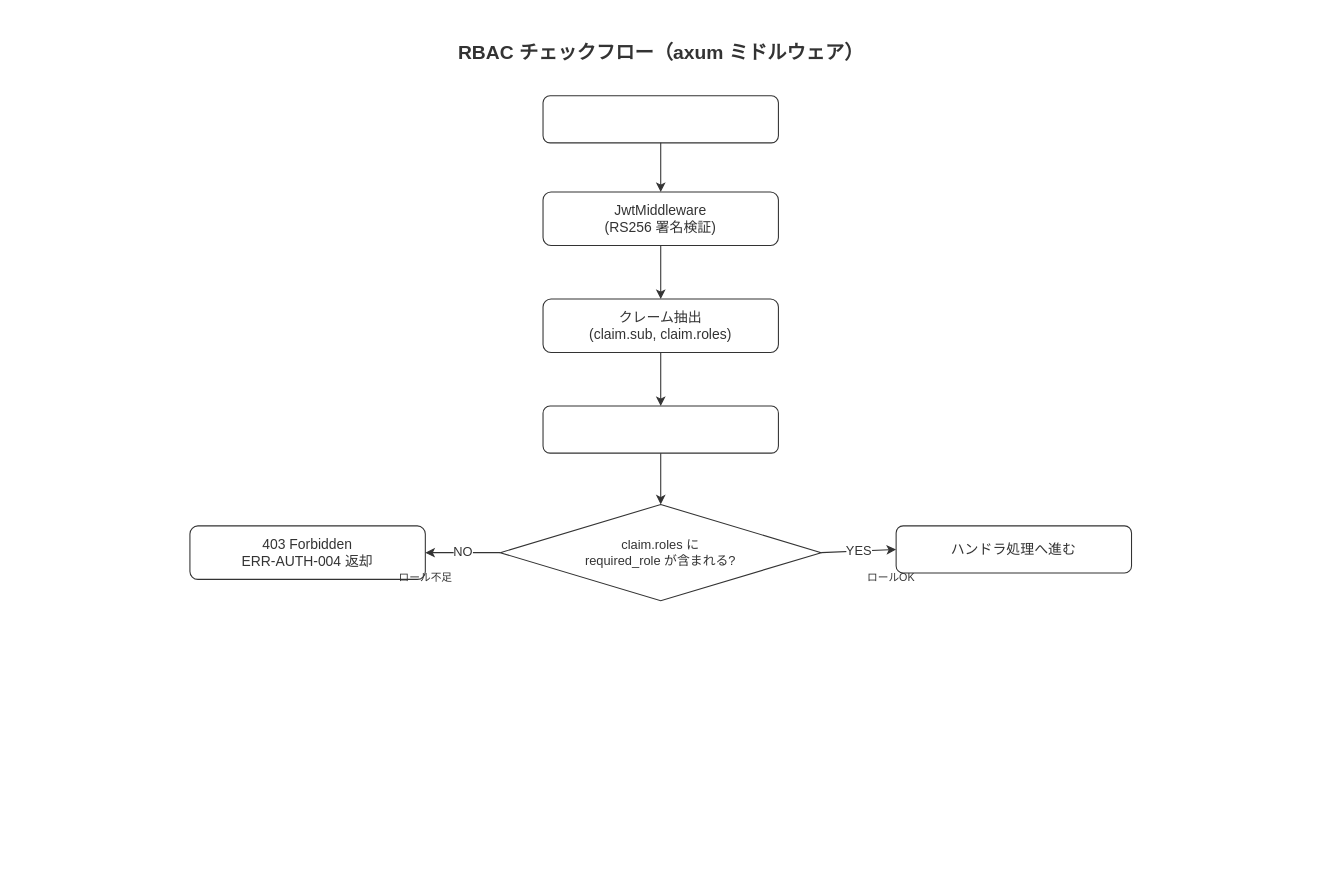
This 1320x892 diagram has some shape labels left out. The centre of each missing label's shape, as x and y in pixels:
"HTTP Request" goes at [660,119].
"RequireRole チェッカー" goes at [660,429].
